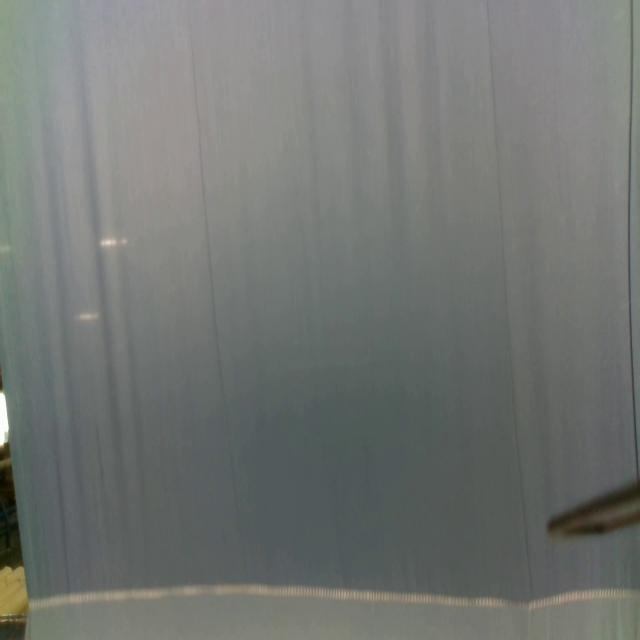crease: (189, 14, 244, 552), (485, 0, 533, 595), (626, 0, 640, 471)
